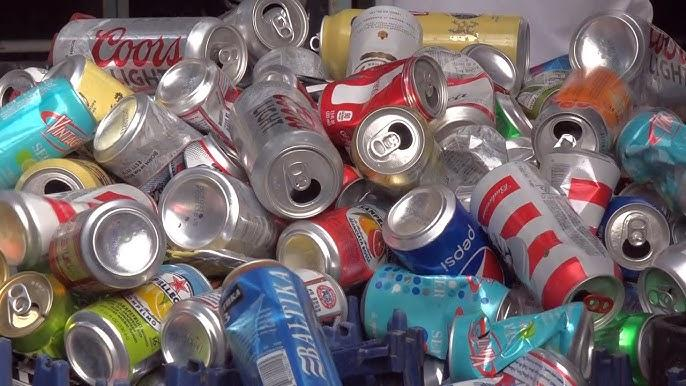lata: (456, 145, 642, 347), (47, 244, 232, 386), (213, 64, 358, 234), (370, 171, 515, 323), (354, 259, 540, 373), (205, 248, 341, 386), (208, 255, 341, 386), (311, 47, 457, 152), (150, 158, 288, 267), (49, 17, 248, 90), (80, 83, 202, 202), (40, 192, 173, 301), (336, 92, 450, 207), (0, 67, 104, 193), (525, 64, 636, 161), (275, 204, 388, 290), (410, 12, 531, 84), (131, 128, 247, 203), (38, 43, 135, 131), (616, 109, 685, 213), (157, 287, 228, 370), (292, 255, 351, 328)
